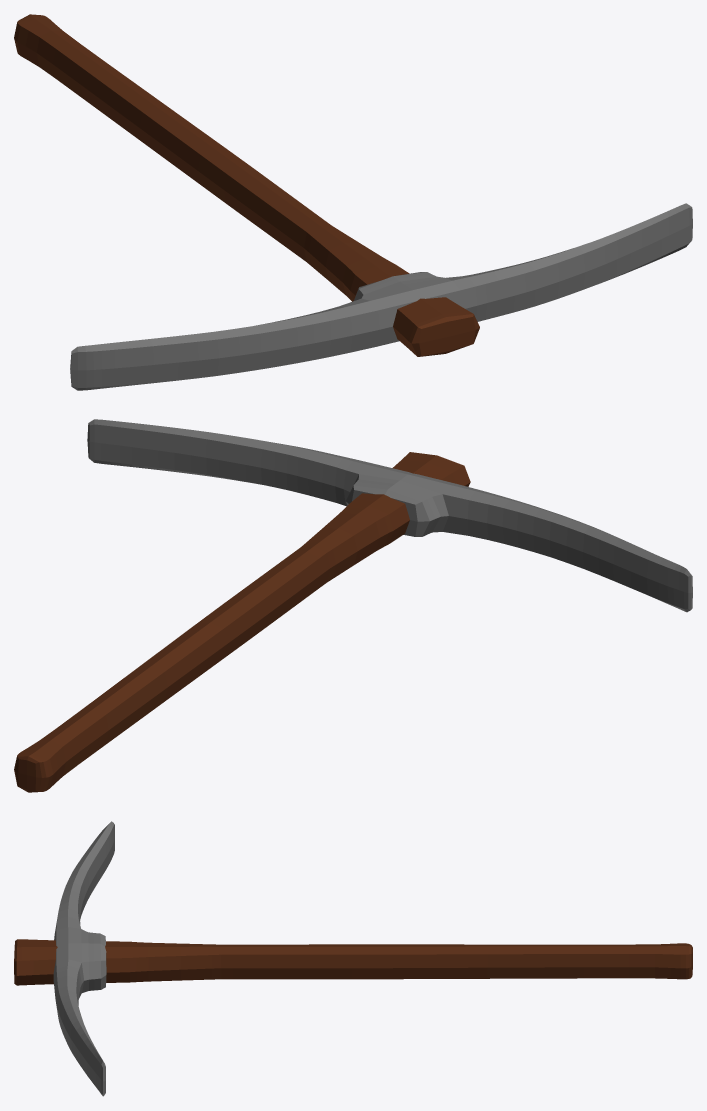
The model's file is pickaxe_scale1.fbx.
3 renders of one model, top to bottom at view 1: azimuth 30°, elevation 25°; view 2: azimuth 150°, elevation 25°; view 3: azimuth 270°, elevation 25°, orthographic. The views are drawn at different scales.
Parts seen in each view (by area): view 1: Hake, Stil; view 2: Hake, Stil; view 3: Stil, Hake.
Boxes of the visible parts, x1,y1,x2,y2 form: Hake: (70, 203, 692, 390); Stil: (14, 14, 479, 356); Hake: (87, 419, 692, 612); Stil: (14, 452, 470, 792); Stil: (14, 939, 692, 985); Hake: (53, 821, 114, 1096).
Bounding box in the file's own units: 807 × 56.71 × 945.
